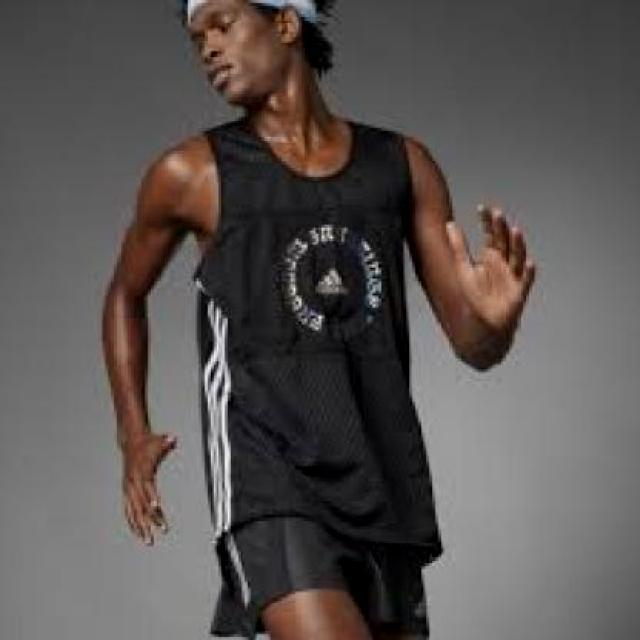no_vest: (194, 116, 445, 559)
